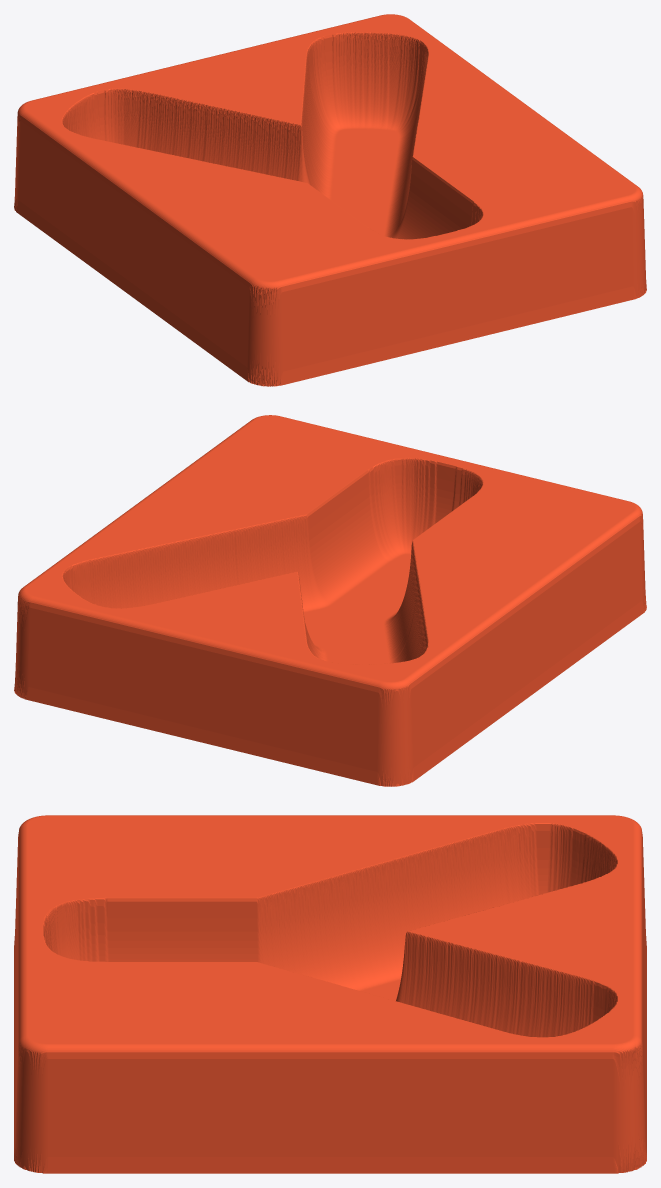
File: mold.glb
The picture shows the model from 3 angles, top to bottom: view 1: azimuth 30°, elevation 25°; view 2: azimuth 150°, elevation 25°; view 3: azimuth 270°, elevation 25°; orthographic projection. The views are drawn at different scales.
Visible parts, largest first — view 1: geometry_0; view 2: geometry_0; view 3: geometry_0.
Boxes of the visible parts, left/top/right/bottom form: geometry_0: left=14, top=14, right=646, bottom=386; geometry_0: left=14, top=415, right=646, bottom=786; geometry_0: left=14, top=815, right=646, bottom=1173.
Size of the model in its own units: 0.151 by 0.0365 by 0.1689.
